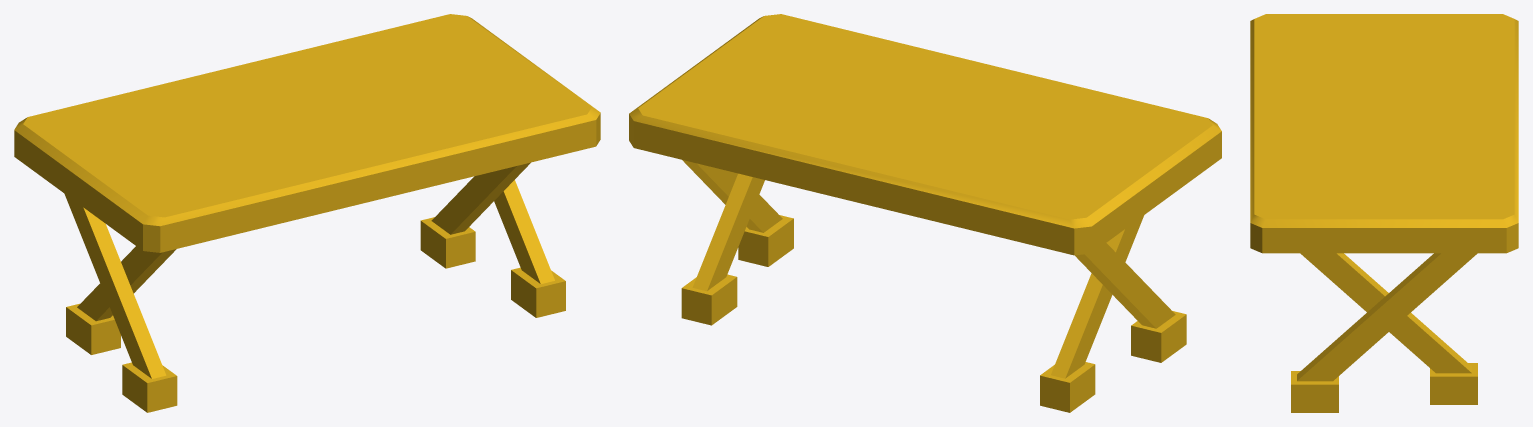
Rendered from CTS_E_CabinTable.fbx.
3 renders of one model, left to right at view 1: azimuth 30°, elevation 25°; view 2: azimuth 150°, elevation 25°; view 3: azimuth 270°, elevation 25°, orthographic. The views are drawn at different scales.
Parts seen in each view (by area): view 1: CTS_E_CabinTable; view 2: CTS_E_CabinTable; view 3: CTS_E_CabinTable.
Boxes of the visible parts, left/top/right/bottom form: CTS_E_CabinTable: left=14, top=14, right=600, bottom=412; CTS_E_CabinTable: left=629, top=14, right=1221, bottom=412; CTS_E_CabinTable: left=1250, top=14, right=1518, bottom=412.
Bounding box in the file's own units: 200 × 87.74 × 107.
